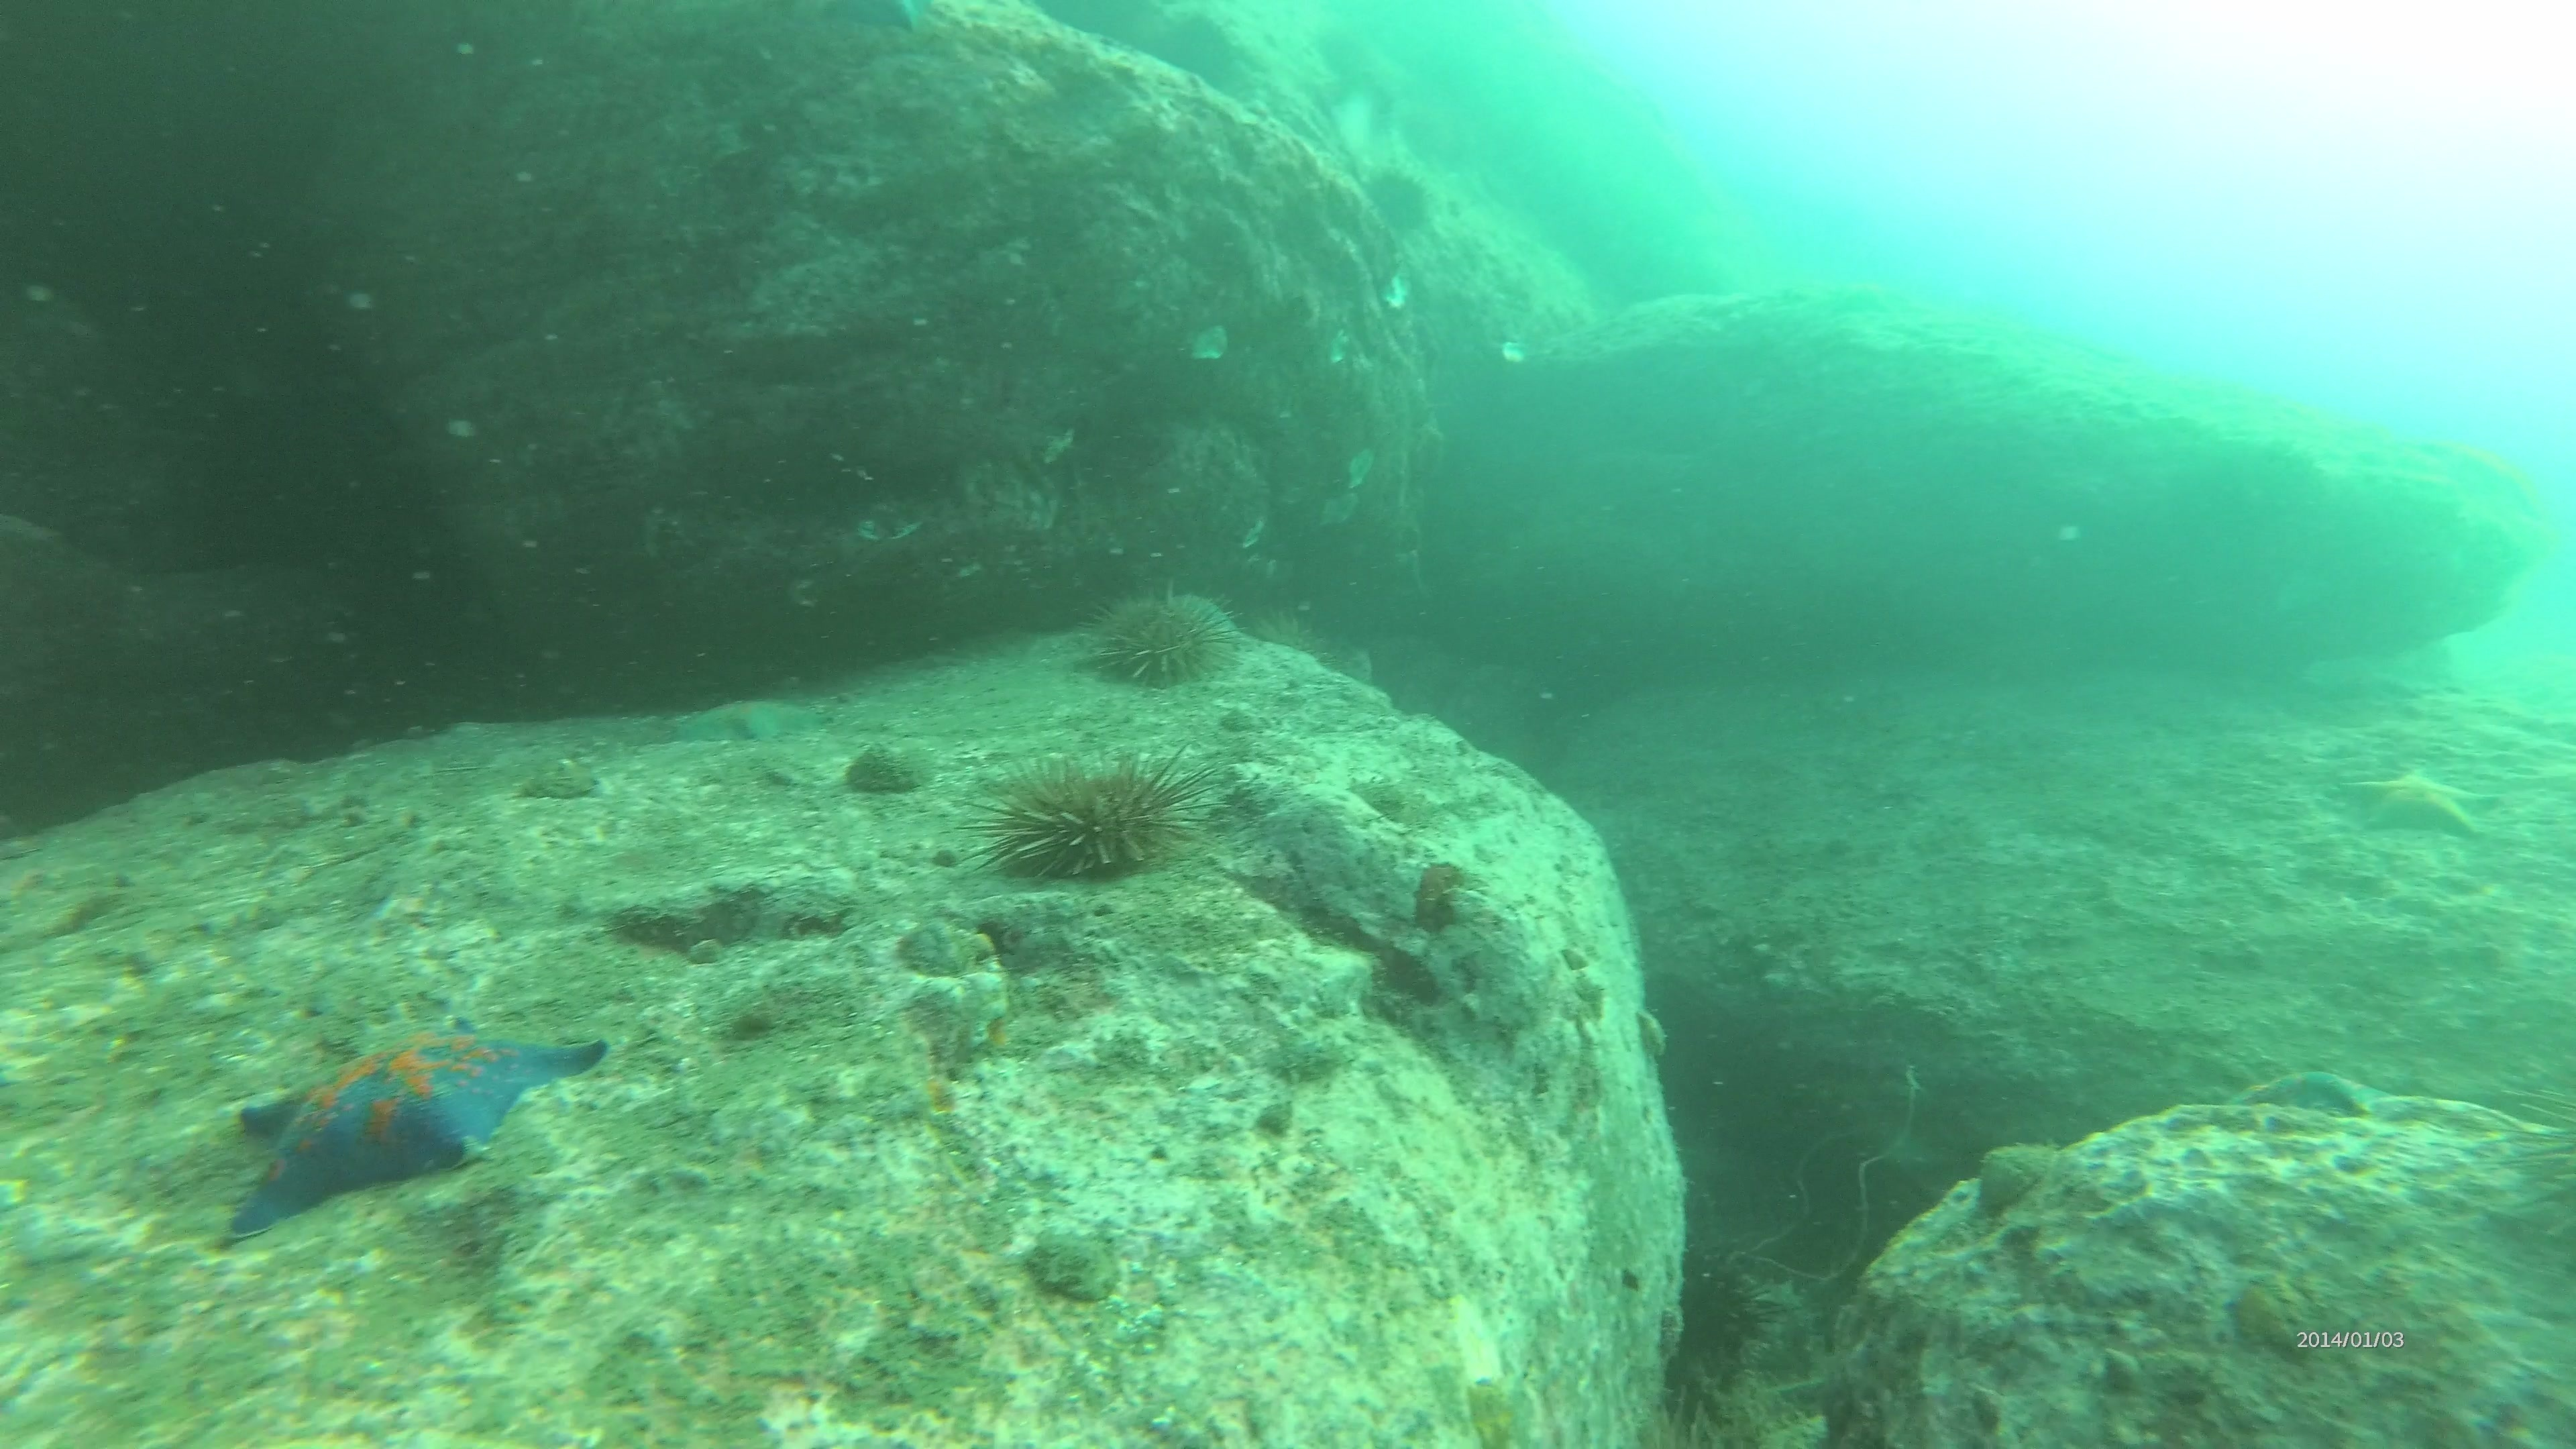echinus: (978, 752, 1203, 893), (1647, 1235, 1782, 1437), (1077, 579, 1244, 699), (1357, 159, 1440, 249), (1161, 12, 1242, 87), (1251, 609, 1341, 674)
starfish: (218, 1014, 612, 1242), (2332, 759, 2496, 847), (667, 690, 833, 754), (2235, 1058, 2385, 1122)
